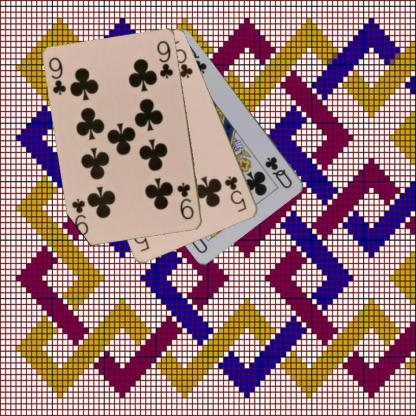5c: (222, 173, 248, 214)
9c: (174, 180, 196, 222), (46, 55, 68, 96)
Qc: (262, 154, 294, 190)
